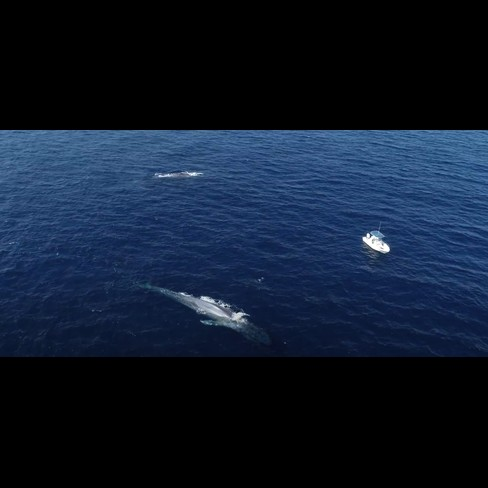bluewhale: (128, 270, 272, 350), (153, 165, 205, 181)
boat: (359, 224, 392, 259)
